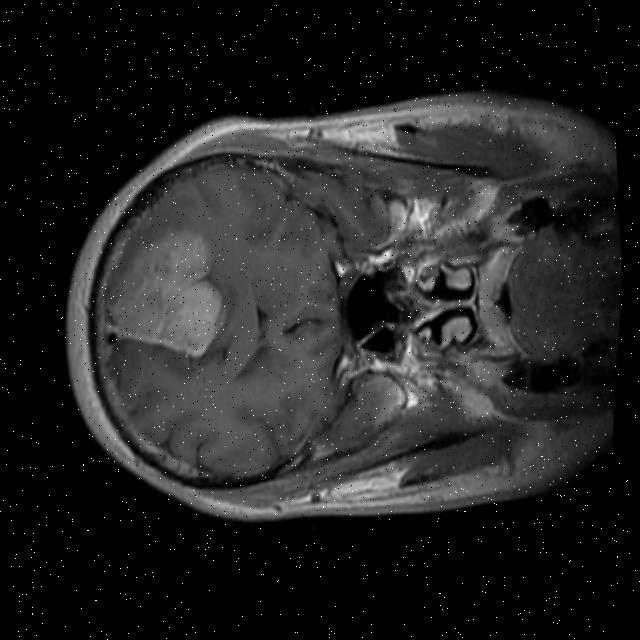Meningioma: (100, 219, 231, 366)
